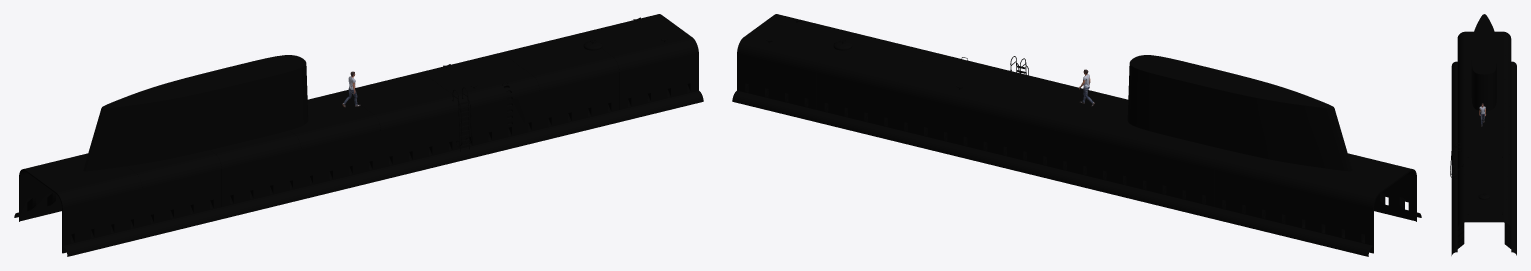
The model's file is yeni denizaltı DIŞ.fbx.
3 views of the same model, side by side, from view 1: azimuth 30°, elevation 25°; view 2: azimuth 150°, elevation 25°; view 3: azimuth 270°, elevation 25° (orthographic). The views are drawn at different scales.
Visible parts, largest first — view 1: Cube.015, Plane.008, Cube.014; view 2: Cube.015, Plane.008, Cube.012; view 3: Cube.015, Plane.008, Cube.014, Cube.012, rp_nathan_animated_003_walking_geo.001.
Part boxes in pixels (x1,y1,x2,y2): Cube.015: (19,14,698,253); Plane.008: (83,55,308,171); Cube.014: (63,90,703,256); Cube.015: (737,14,1416,253); Plane.008: (1127,55,1352,171); Cube.012: (732,90,1372,256); Cube.015: (1450,31,1511,248); Plane.008: (1471,14,1496,110); Cube.014: (1451,61,1457,255); Cube.012: (1511,61,1516,255); rp_nathan_animated_003_walking_geo.001: (1479,103,1485,126).
Size of the model in its own units: 3362 by 579 by 498.
